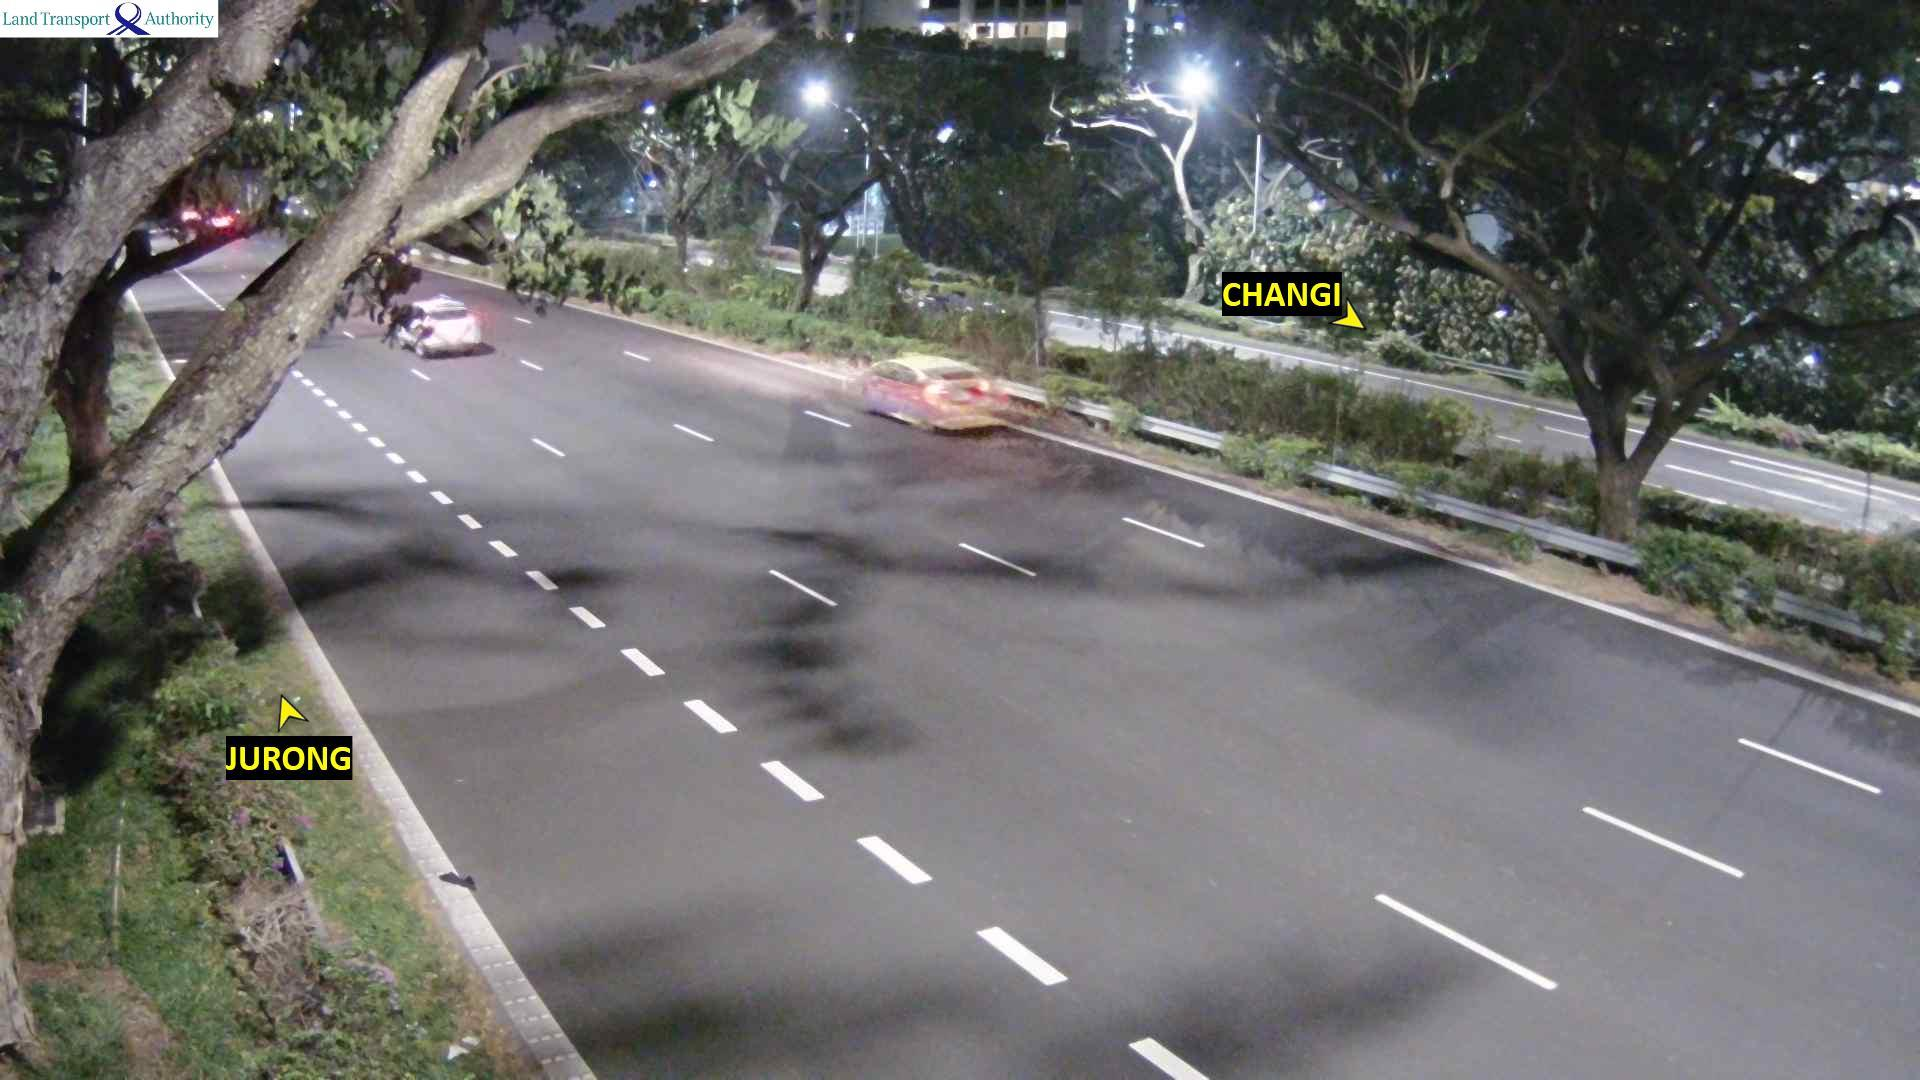cars: (860, 349, 1011, 435), (385, 291, 484, 357), (897, 280, 1005, 319), (206, 196, 245, 241), (270, 193, 316, 225), (170, 200, 203, 241)
